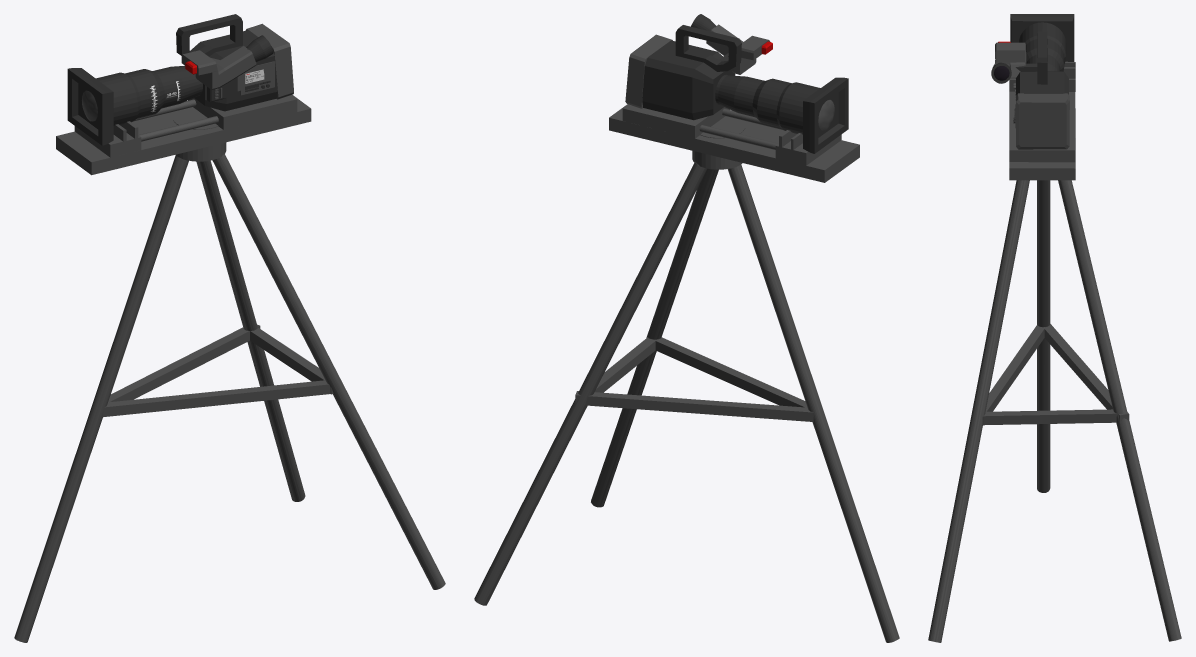
Rendered from camara_tripie.glb.
3 renders of one model, left to right at view 1: azimuth 30°, elevation 25°; view 2: azimuth 150°, elevation 25°; view 3: azimuth 270°, elevation 25°, orthographic. The views are drawn at different scales.
Parts seen in each view (by area): view 1: Object_4, Object_8; view 2: Object_4, Object_8; view 3: Object_4, Object_8.
Boxes of the visible parts, x1=… form: Object_4: x1=14, y1=14, x2=445, y2=642; Object_8: x1=96, y1=65, x2=202, y2=125; Object_4: x1=474, y1=14, x2=899, y2=642; Object_8: x1=715, y1=74, x2=820, y2=134; Object_4: x1=928, y1=14, x2=1181, y2=642; Object_8: x1=1019, y1=22, x2=1066, y2=71.
Bounding box in the file's own units: 1.2 × 1.77 × 0.7684.
5 materials, 5 textured.
